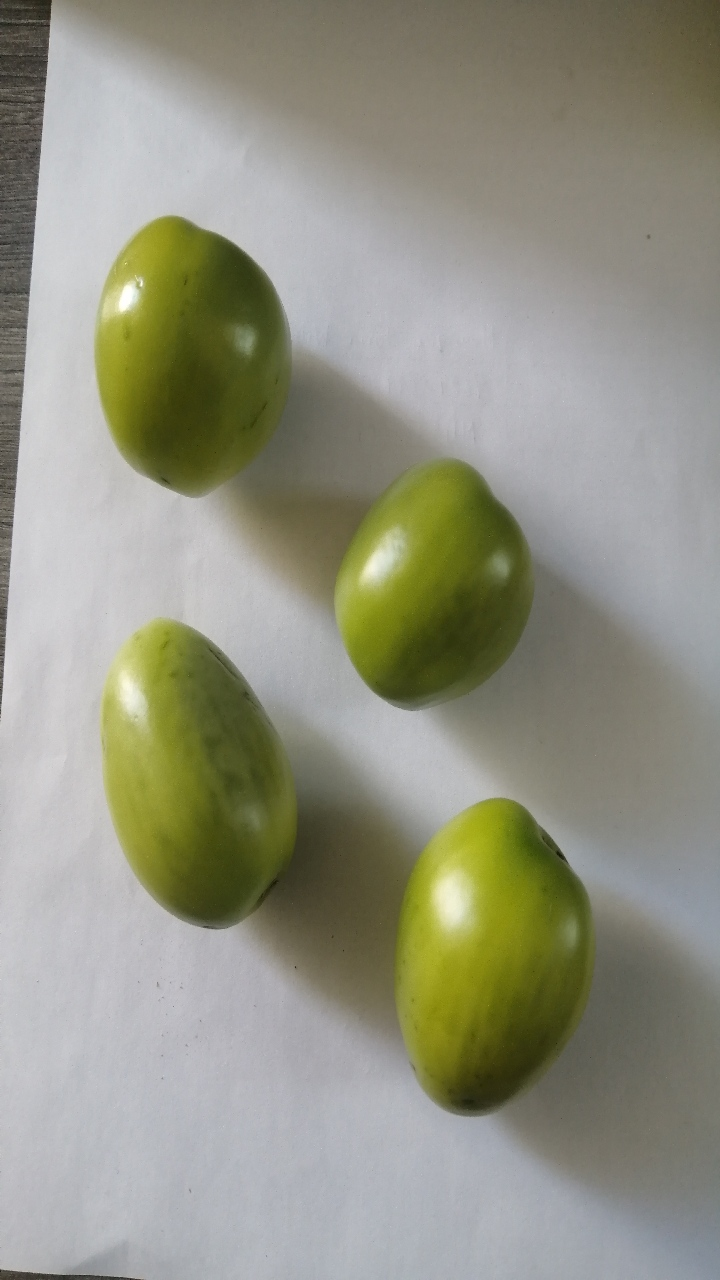tomateVerde: (66, 605, 318, 954), (361, 785, 606, 1143), (63, 202, 304, 508), (328, 435, 558, 723)
